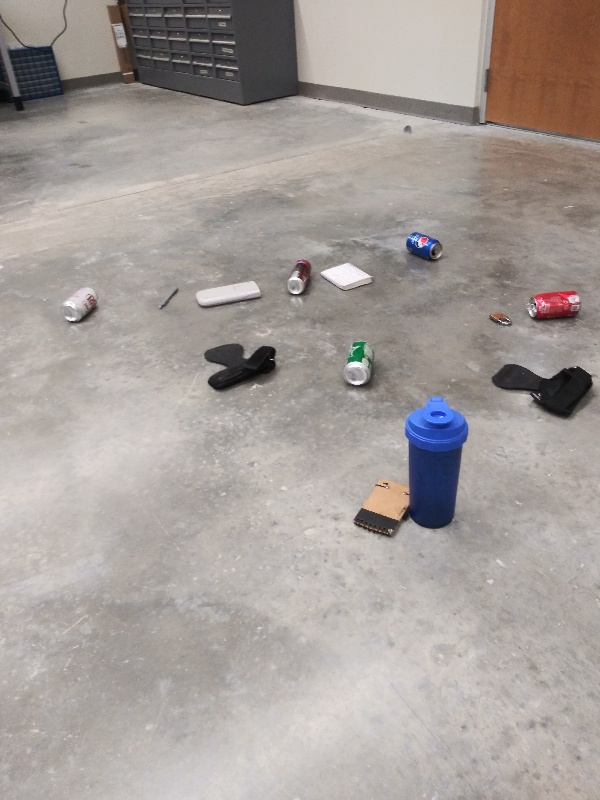can: (523, 290, 584, 322), (57, 283, 103, 325), (342, 340, 379, 389), (402, 229, 445, 264), (285, 257, 316, 299)
